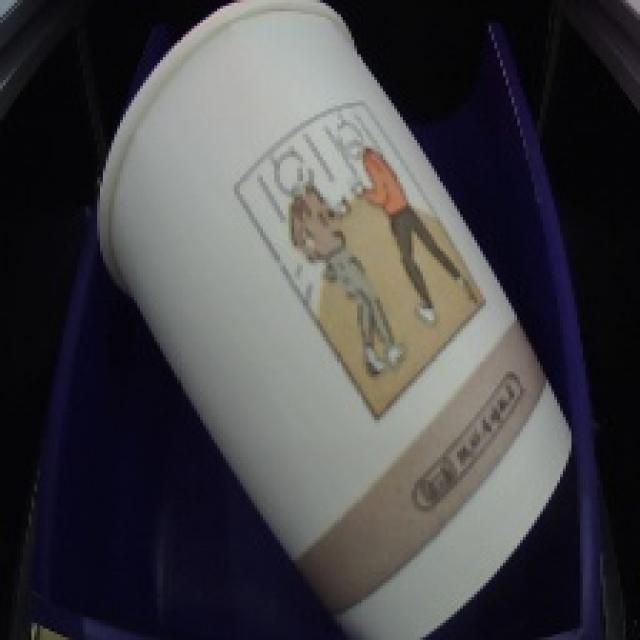cups: (74, 0, 585, 640)
